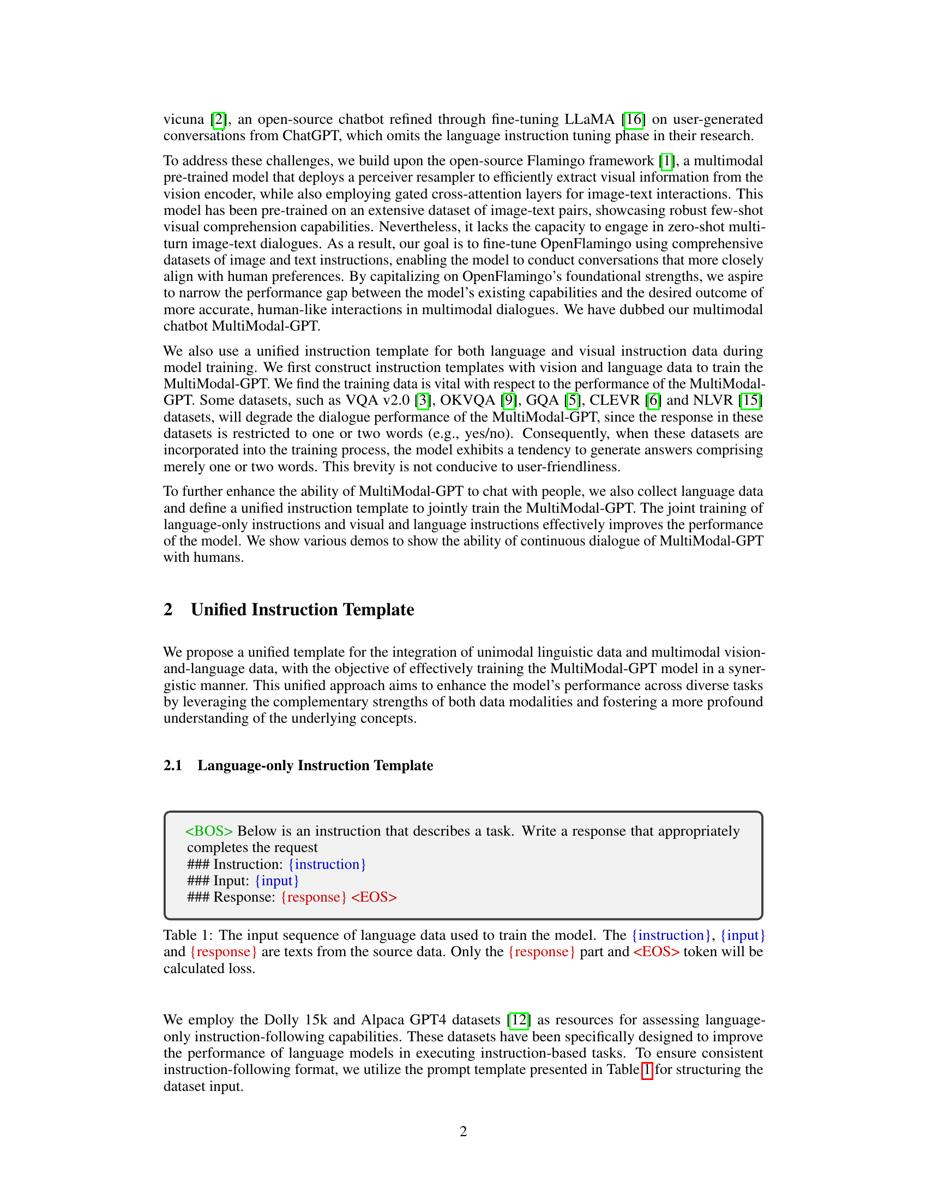table: (158, 807, 768, 981)
text: (158, 106, 768, 335), (158, 341, 768, 568), (158, 595, 768, 779), (158, 1007, 768, 1097)
